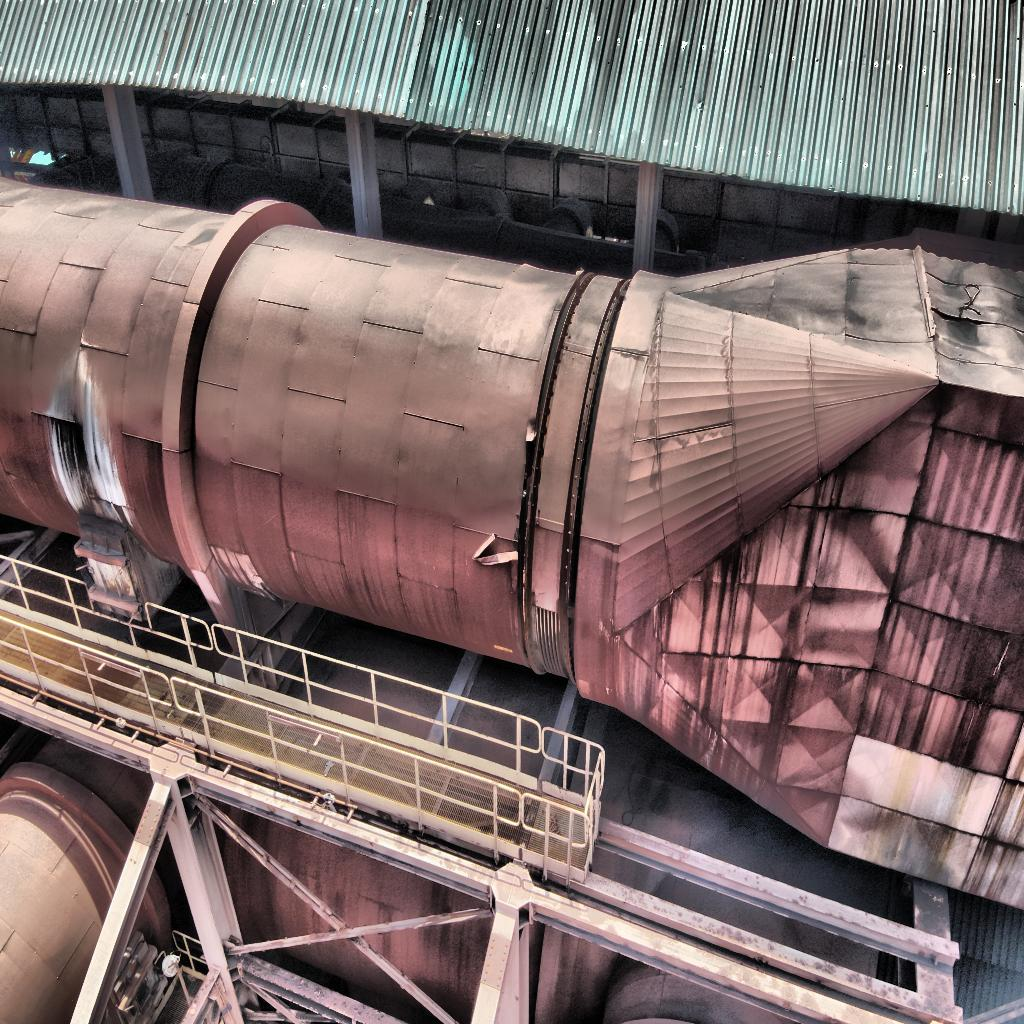Failures: (470, 372, 598, 647), (892, 230, 1000, 398)
